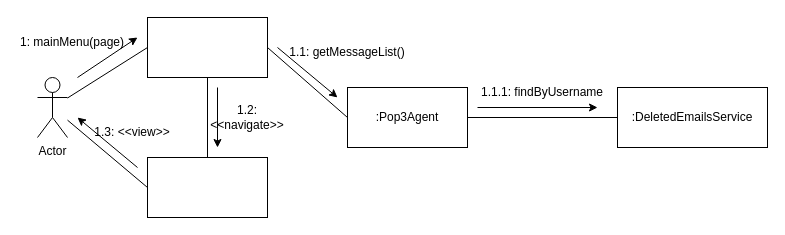
Image size: 785x235. Some labels were removed from this diagram. The shapes that lost their labels are listed below. From the top down, each one's centre as x and y in pixels, then its label:
point (207, 47): :ReadController
point (207, 187): :main_menu
